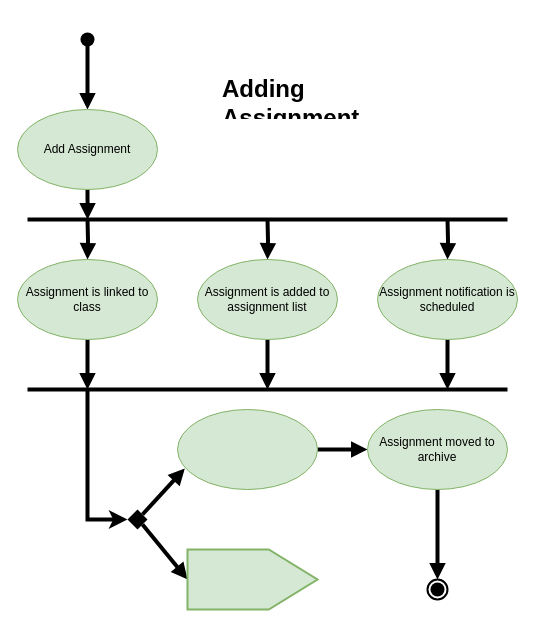
Some shapes in this 535 by 629 pixel diagram are drawn without their labels. Each missing label, with the box of its shape:
Assignment marked as complete: (176, 408, 318, 490)
Send Notification: (186, 548, 318, 610)
